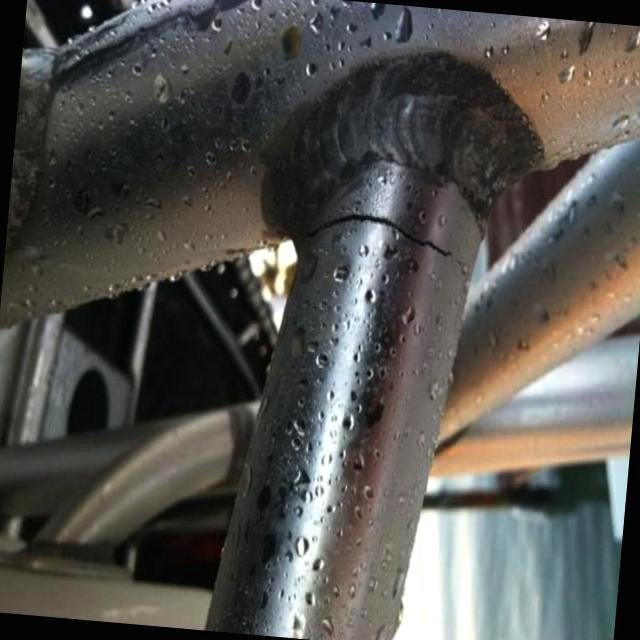defect: (293, 207, 458, 266)
